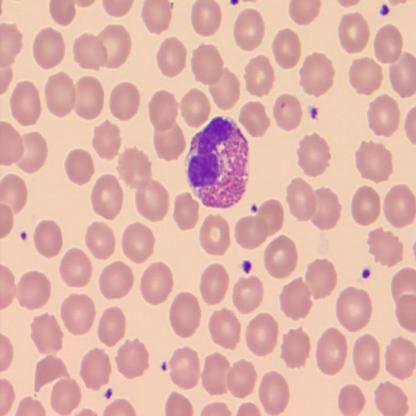Eosinophil: (187, 113, 249, 213)
